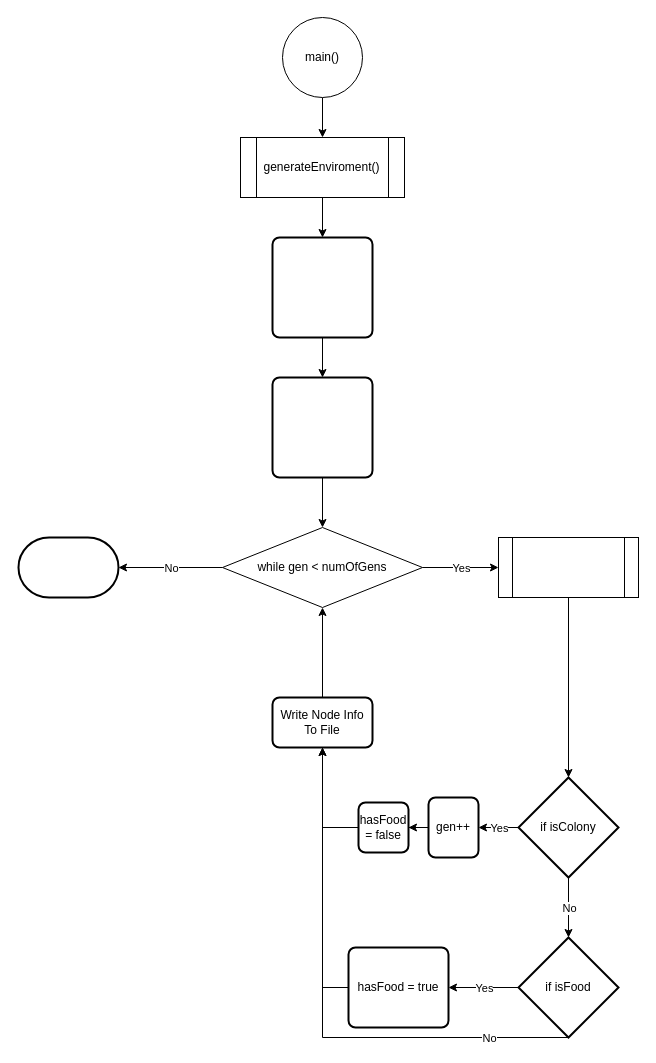
Image size: 656x1063. Some labels were removed from this diagram. Each missing label, with the box of its shape:
Create Variables gen And numOfGens And node And hasFood: (271, 236, 373, 338)
decideNextNode(): (498, 536, 638, 598)
End: (17, 536, 119, 598)
Set numOfGens To Passthroughed Value: (271, 376, 373, 478)
